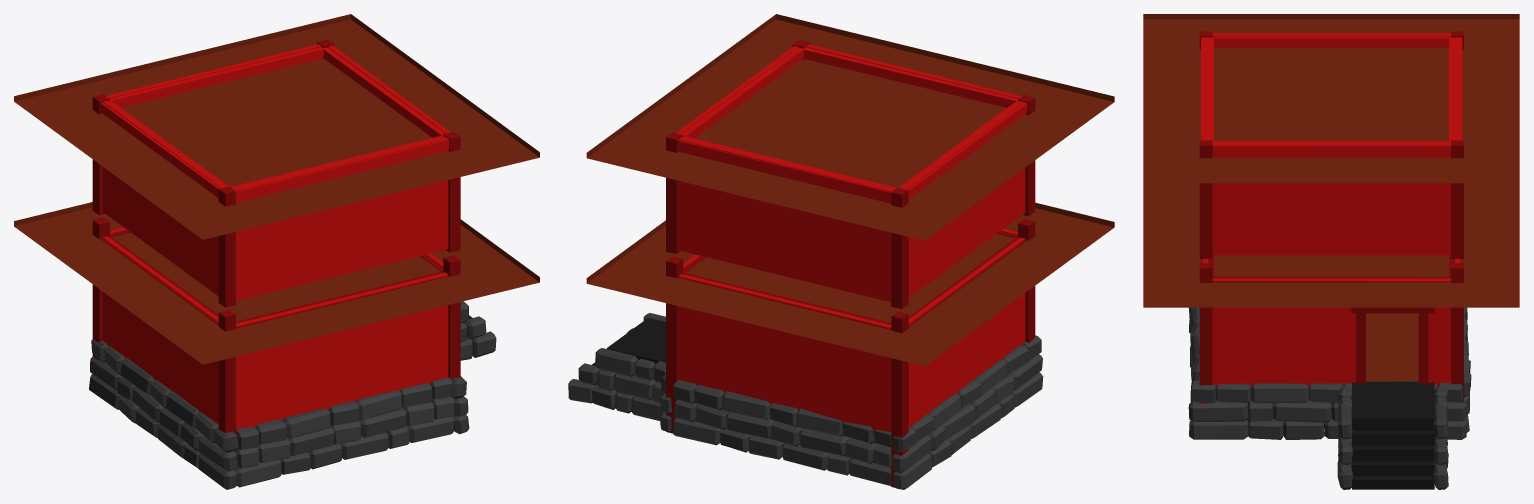
File: health_center.obj
3 renders of one model, left to right at view 1: azimuth 30°, elevation 25°; view 2: azimuth 150°, elevation 25°; view 3: azimuth 270°, elevation 25°, orthographic.
Visible parts, largest first — view 1: roof.001, roof, wall3, wall3.001, stone_wall_L, stone_wall_B, wall4, wall4.001, pillars1, pillars_A_roof2, pillars1.001, pillars_A_roof1 (+10 smaller); view 2: roof.001, roof, wall2, wall2.001, stone_wall_R, stone_wall_B, wall4, wall4.001, Cube.004, pillars2, pillars_A_roof1, pillars2.001 (+10 smaller); view 3: roof.001, roof, wall1.001, wall1, stone_wall_F, stairs, floor1, pillars_A_roof3, pillars_A_roof4, pillars1.001, Cube.004, Cube.002 (+14 smaller).
Part boxes in pixels (x1,y1,x2,y2): roof.001: (14,14,539,239); roof: (14,202,539,364); wall3: (236,272,448,429); wall3.001: (233,137,448,300); stone_wall_L: (235,377,454,487); stone_wall_B: (89,339,238,489); wall4: (103,236,218,424); wall4.001: (103,100,225,296); pillars1: (218,255,460,469); pillars_A_roof2: (230,136,449,200); pillars1.001: (218,132,460,307); pillars_A_roof1: (106,47,323,107); roof.001: (586,14,1114,240); roof: (586,202,1114,366); wall2: (678,274,891,434); wall2.001: (678,137,894,301); stone_wall_R: (672,380,891,485); stone_wall_B: (891,335,1043,489); wall4: (908,237,1025,427); wall4.001: (902,101,1025,297); Cube.004: (568,348,665,420); pillars2: (666,256,908,487); pillars_A_roof1: (677,136,896,201); pillars2.001: (666,132,908,308); roof.001: (1143,14,1519,183); roof: (1143,183,1519,307); wall1.001: (1212,143,1450,255); wall1: (1212,278,1450,386); stone_wall_F: (1188,380,1466,439); stairs: (1352,381,1434,489); floor1: (1366,313,1418,381); pillars_A_roof3: (1212,141,1450,155); pillars_A_roof4: (1208,33,1450,47); pillars1.001: (1199,31,1212,258); Cube.004: (1433,387,1448,489); Cube.002: (1337,387,1352,489).
Size of the model in its own units: 15.46 by 13.51 by 12.84.
